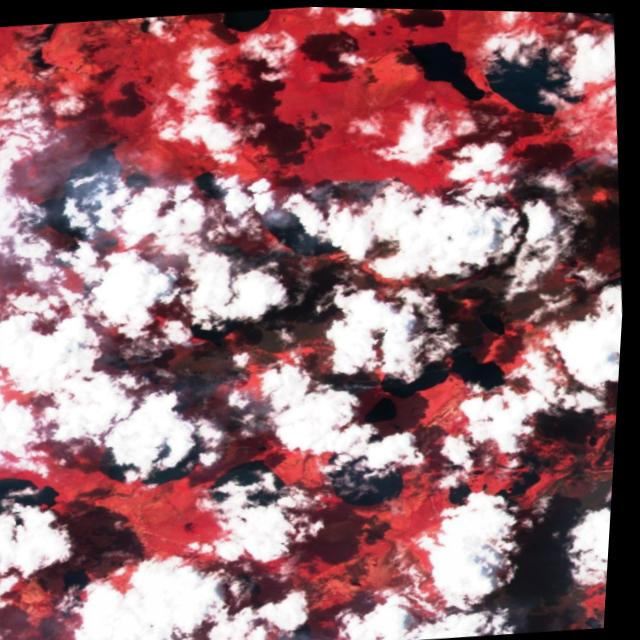fire: (121, 154, 515, 437)
